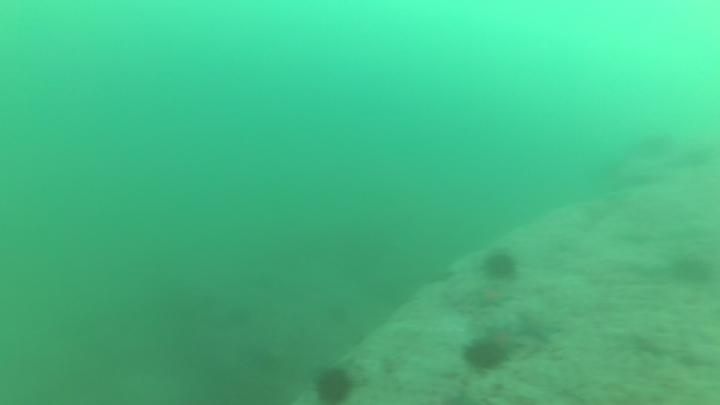echinus: (307, 361, 362, 405), (463, 337, 509, 376), (671, 254, 715, 288), (480, 249, 524, 282)
starfish: (515, 307, 565, 345), (482, 322, 525, 358), (469, 283, 517, 312)
